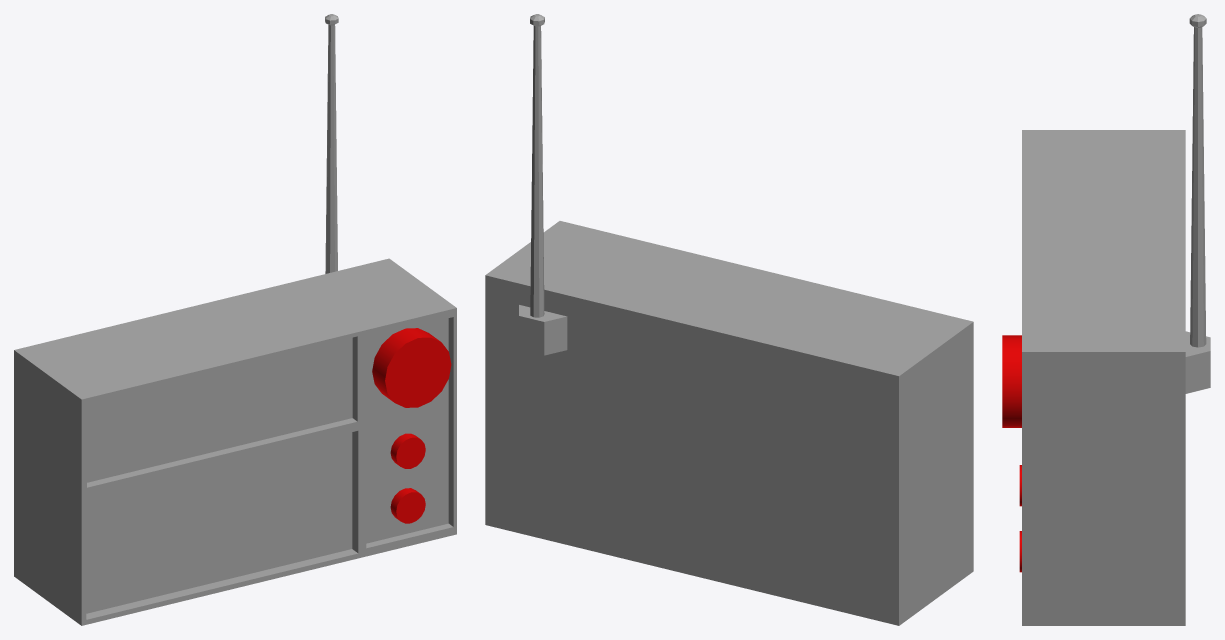
Rendered from Radio.fbx.
3 renders of one model, left to right at view 1: azimuth 30°, elevation 25°; view 2: azimuth 150°, elevation 25°; view 3: azimuth 270°, elevation 25°, orthographic. The views are drawn at different scales.
Visible parts, largest first — view 1: pCylinder9; view 2: pCylinder9; view 3: pCylinder9.
Boxes of the visible parts, box(x1,y1,x2,y2) form: pCylinder9: box(14, 14, 456, 625); pCylinder9: box(485, 14, 973, 625); pCylinder9: box(1002, 14, 1210, 625).
Size of the model in its own units: 11.69 by 14.25 by 4.64.
